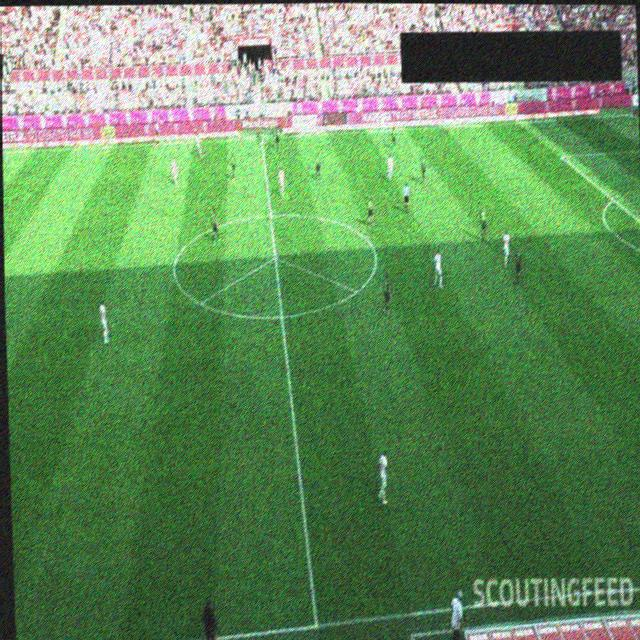bigarea_top_inner: (555, 152, 567, 164)
corner: (625, 108, 637, 120)
halfcircle_bottom: (276, 310, 287, 321)
halfcircle_top: (264, 209, 275, 220)
midline_bottom_intersection: (304, 617, 328, 636)
midline_top_intersection: (256, 131, 267, 142)
top_arc_area_intersection: (607, 193, 619, 206)
